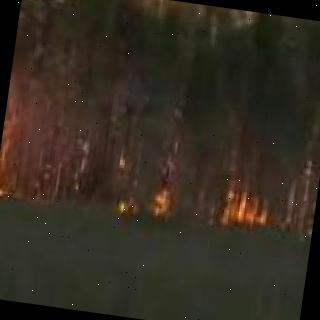fire: (113, 182, 182, 224), (216, 181, 270, 231), (0, 77, 19, 195)
